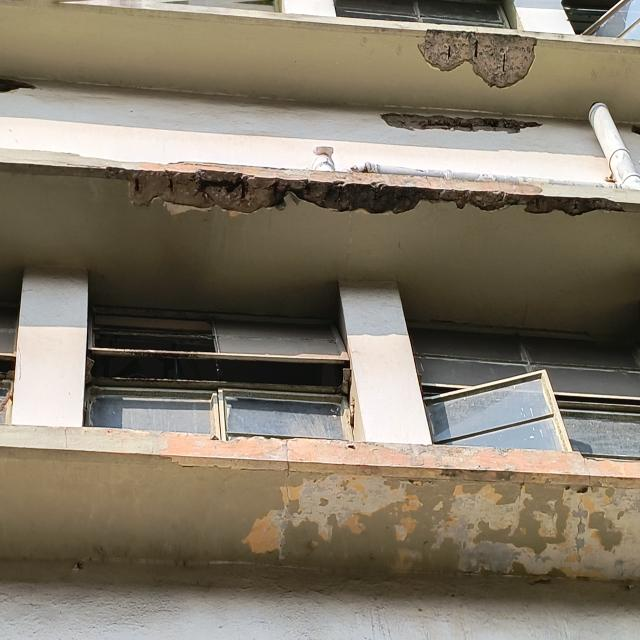Broken window pane: (78, 305, 366, 441)
Paint Peeling: (160, 430, 640, 580)
Scaling: (381, 113, 541, 134)
Spalling: (88, 164, 621, 214), (418, 30, 536, 88)
